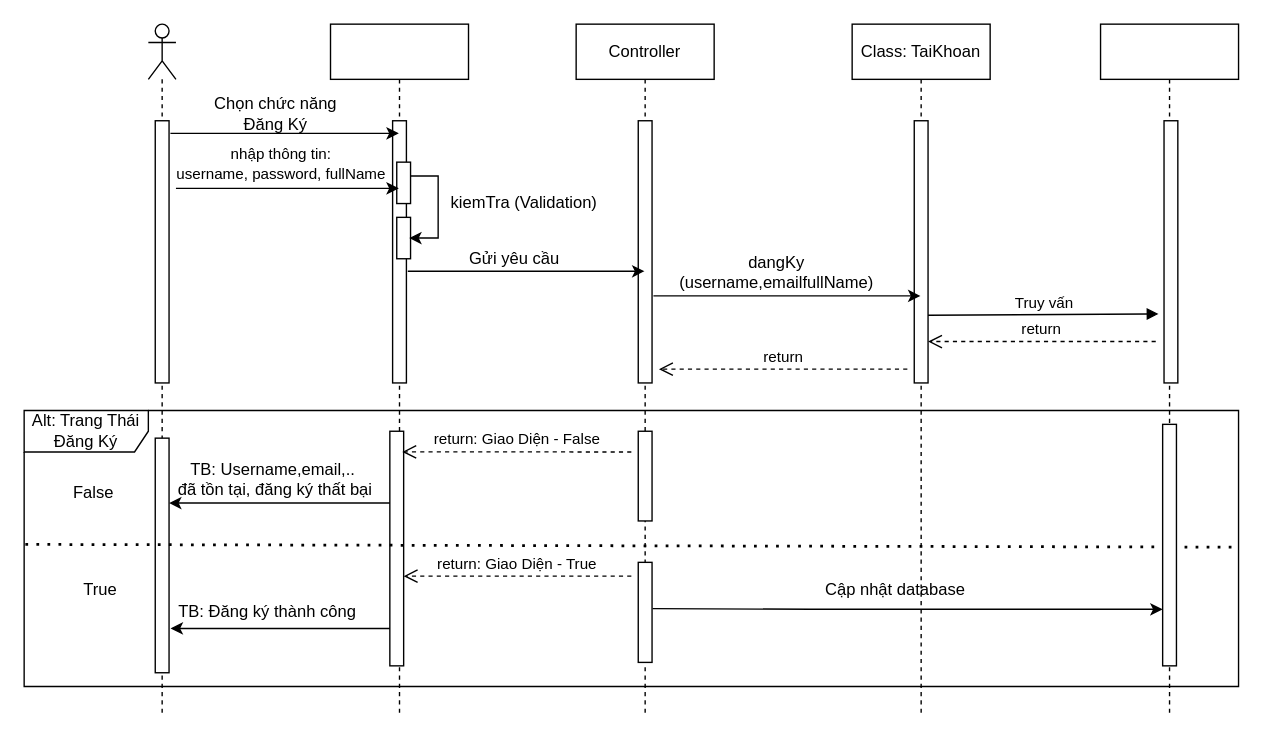
Some shapes in this 1267 by 738 pixel diagram are drawn without their labels. The shapes that lost their labels are listed below. From the top down, each one's centre as x and y in pixels, then its label:
At (399,368): "From: DangKy".
At (1169,368): "Database".
